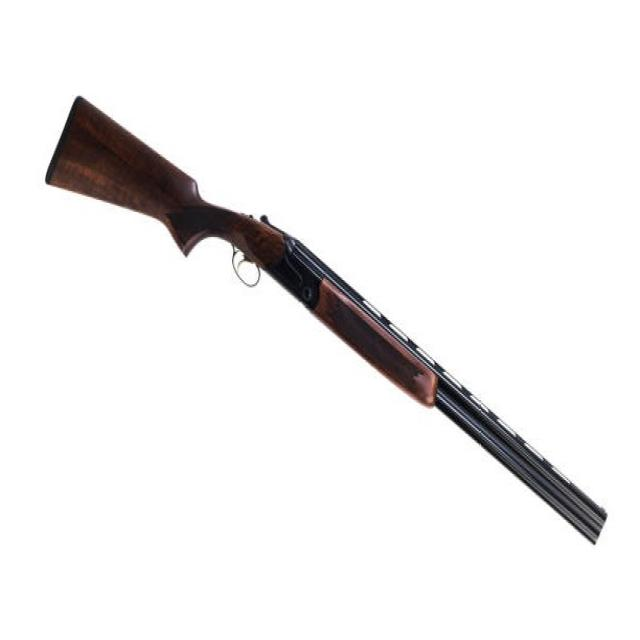rifle: (43, 76, 616, 563)
